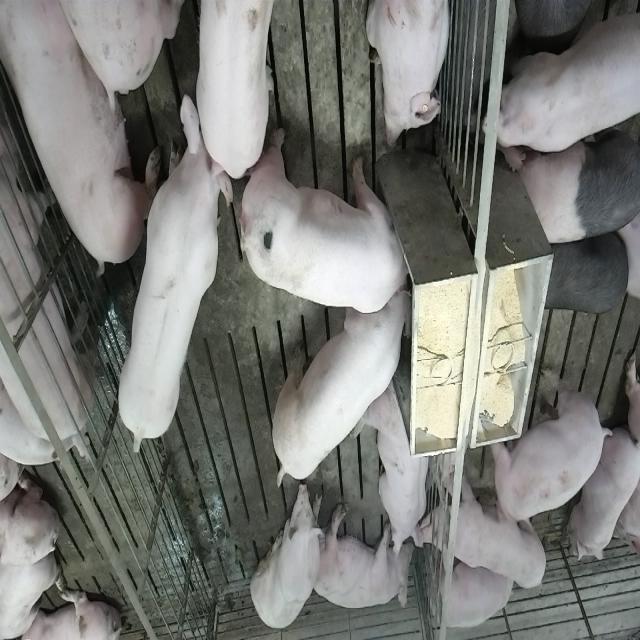Feeding: (244, 126, 419, 314), (266, 284, 411, 497)
Lateral_lying: (310, 502, 414, 612)
Sitting: (250, 481, 324, 634)
Standing: (0, 0, 97, 468), (116, 104, 229, 452), (496, 0, 640, 159), (489, 361, 611, 530), (175, 0, 274, 178), (417, 468, 548, 590), (516, 125, 638, 248)
Sternal_lying: (365, 0, 452, 152), (359, 376, 432, 556), (570, 420, 638, 566), (431, 548, 516, 632)
